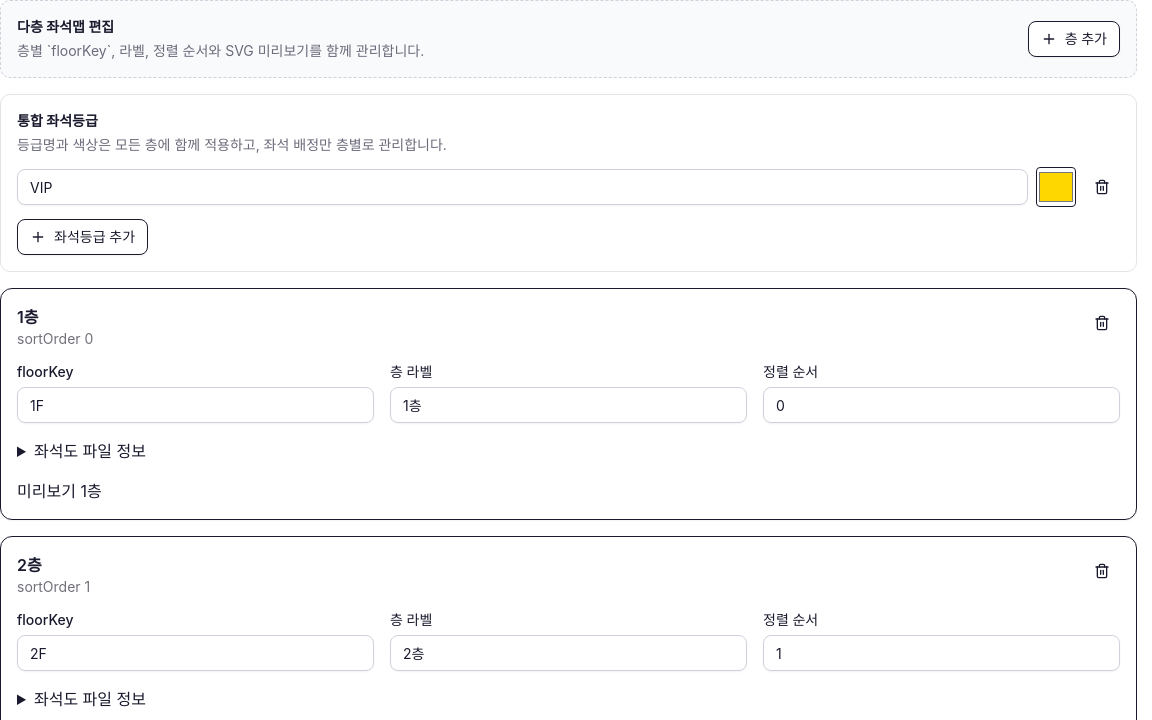
Test: FloorSeatMapEditor card identity › keeps each remaining floor bound to its own preview after an earlier floor is removed
Click the button named "1층 삭제".
click(1102, 323)  # box [1084,305,1120,341]
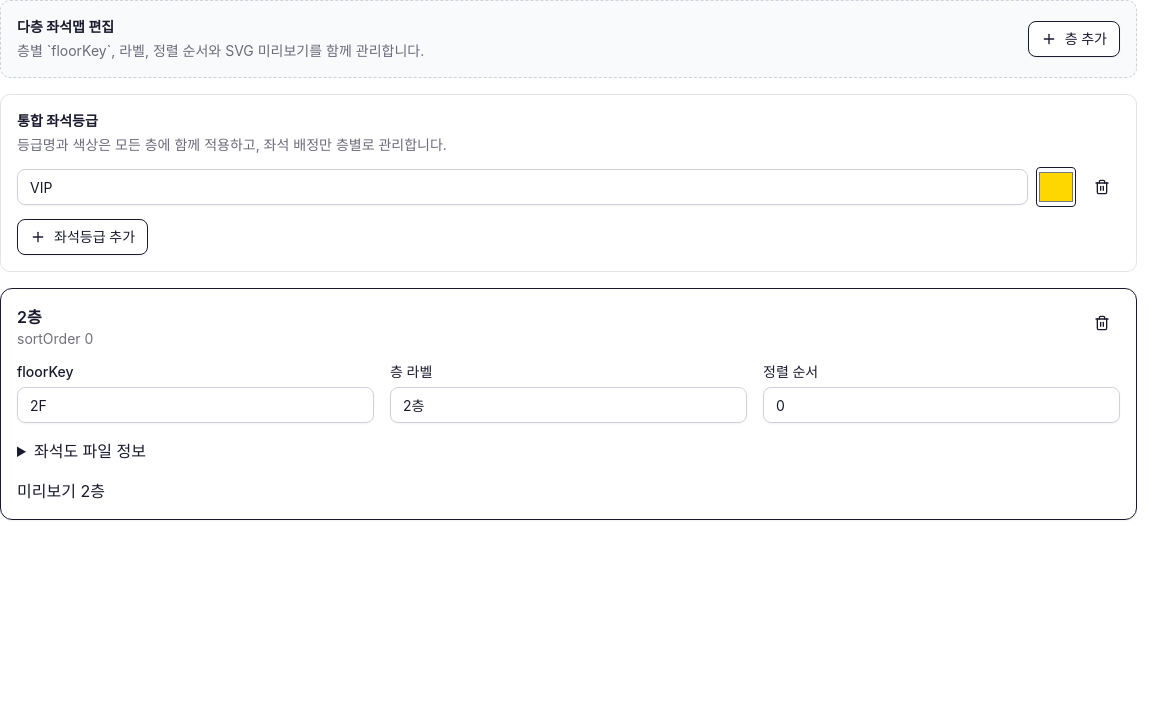
Expected: the field showing "2F" is shown, [17,387,374,423]
Now the text "미리보기 1층" is gone
